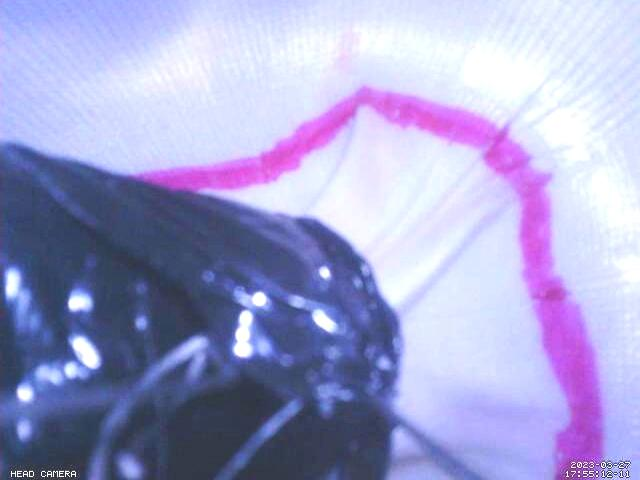red-circle: (130, 85, 607, 480)
